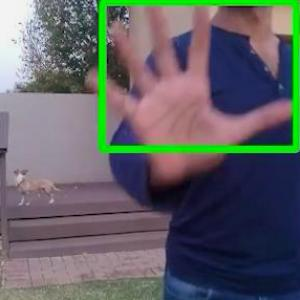follow_hand: (77, 0, 299, 180)
